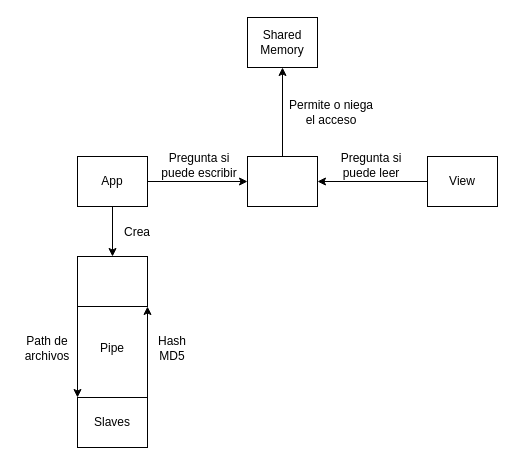
Some shapes in this 515 by 465 pixel diagram are drawn without their labels. Each missing label, with the box of its shape:
Semaforo: (246, 156, 318, 206)
Slave Manager: (76, 256, 148, 306)
